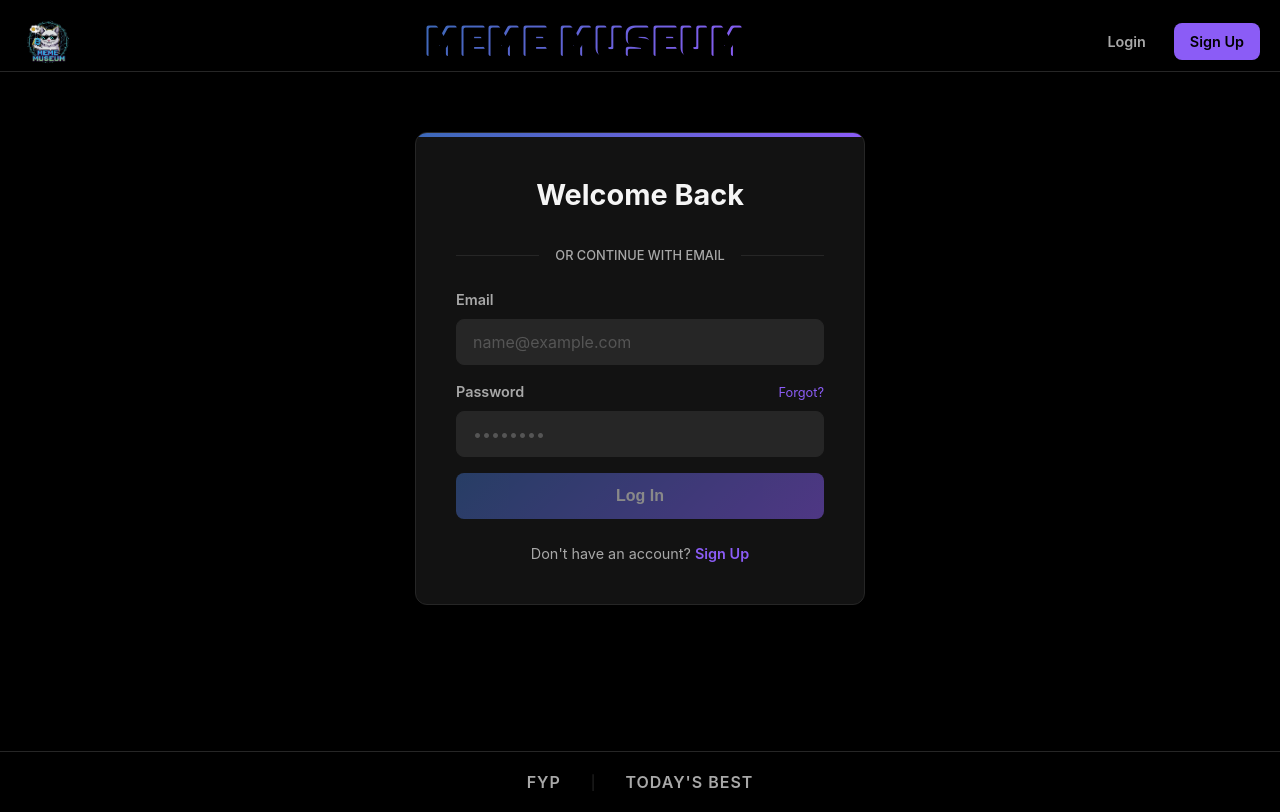
Test case: MemeMuseum - Login Flow › Dovrebbe mostrare un messaggio di errore se le credenziali sono errate
In the field with id "login-email": (640, 342) [456,319,824,365], type "sbagliata@example.com"
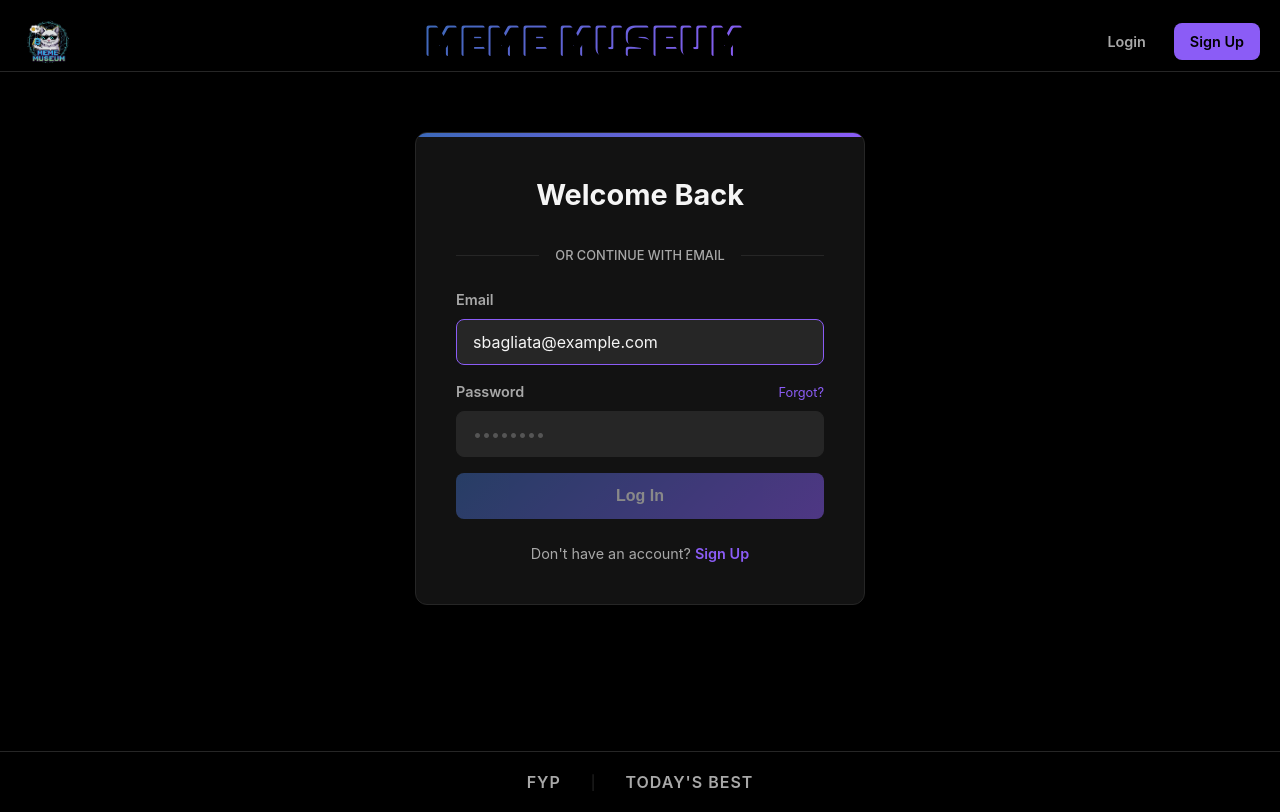
In the password field with id "login-password": (640, 434) [456,411,824,457], type "PasswordErrata"
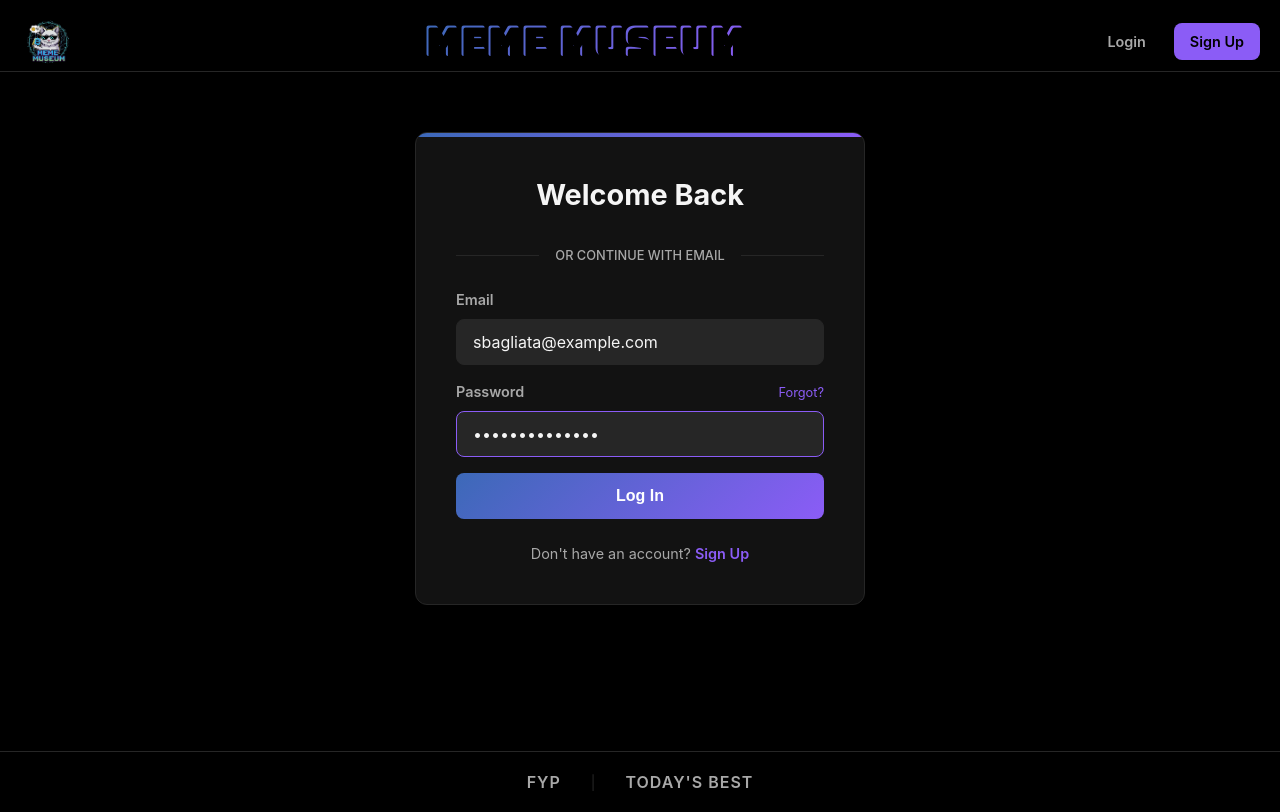
Click the submit button: click(640, 496) [456,473,824,519]
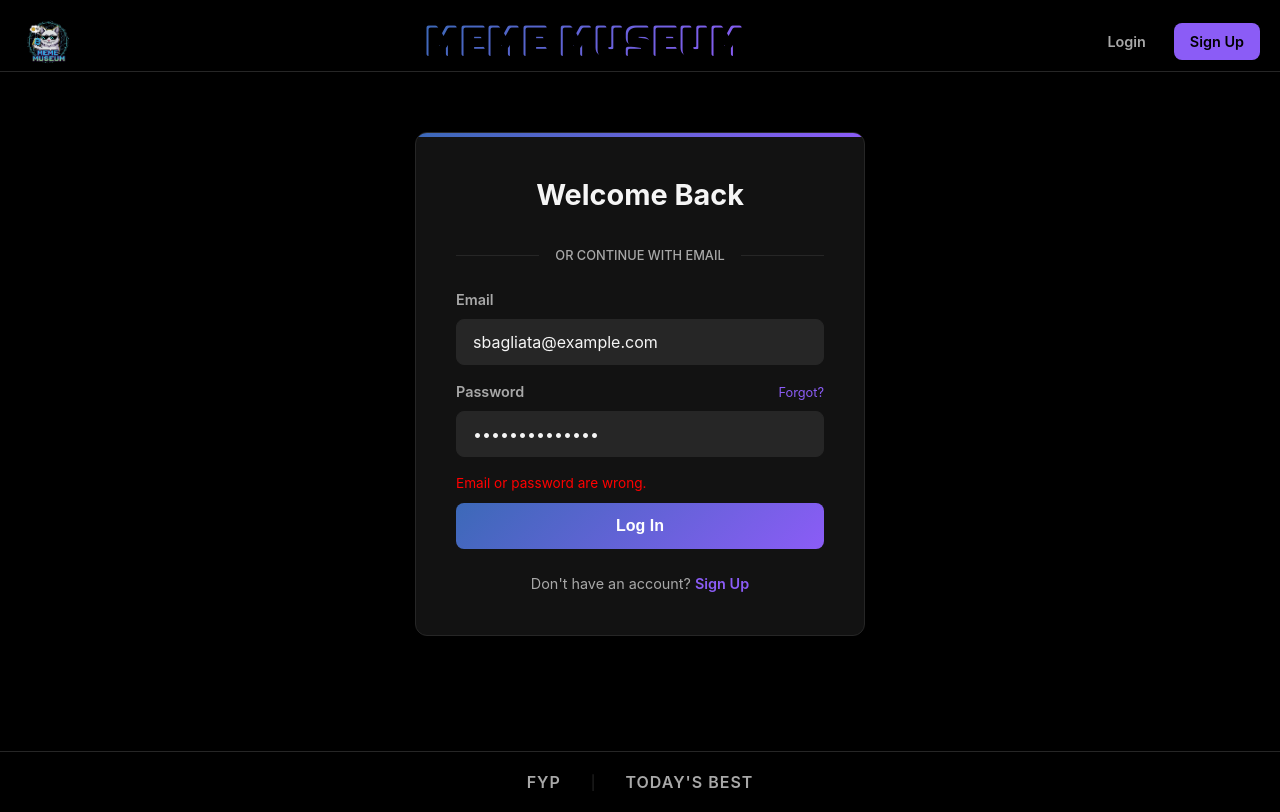
Expected: the text "Email or password are wrong." is shown, [456,475,646,491]
